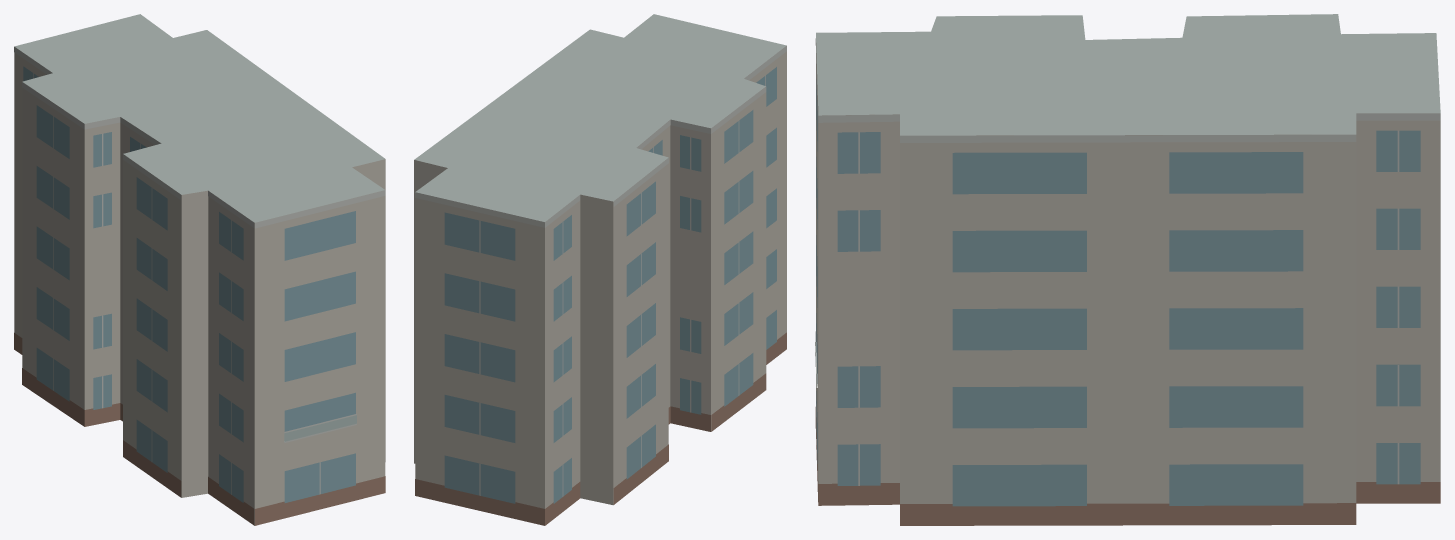
The model's file is survey-upis-32577622.glb.
3 renders of one model, left to right at view 1: azimuth 30°, elevation 25°; view 2: azimuth 150°, elevation 25°; view 3: azimuth 270°, elevation 25°, orthographic. The views are drawn at different scales.
Parts seen in each view (by area): view 1: survey-upis-32577622.tmp; view 2: survey-upis-32577622.tmp; view 3: survey-upis-32577622.tmp.
Boxes of the visible parts, <box> form: survey-upis-32577622.tmp: <box>14,14,385,525</box>; survey-upis-32577622.tmp: <box>414,14,786,525</box>; survey-upis-32577622.tmp: <box>815,14,1440,525</box>.
Bounding box in the file's own units: 8.63 × 12.9 × 18.75.
